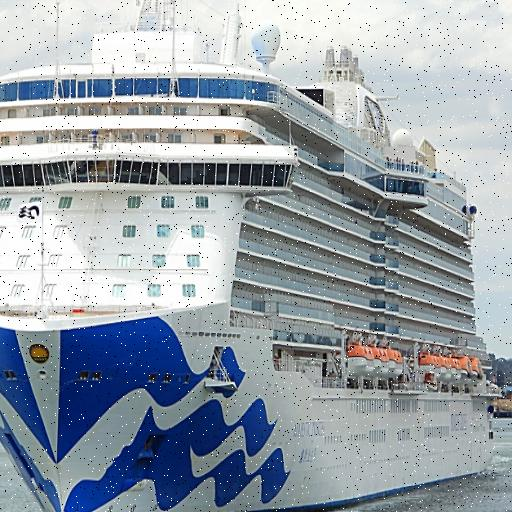cruises: (1, 1, 505, 512)
